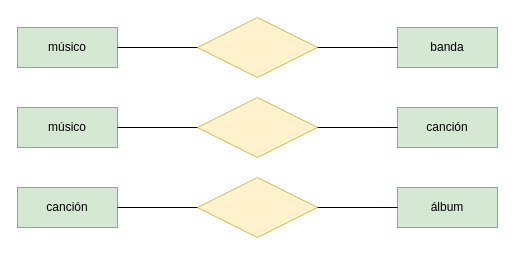
Some shapes in this 515 by 255 pixel diagram are drawn without their labels. The box of each missing label's shape, as (x1, y1, x2, y2) in pixels:
compone: (196, 96, 318, 158)
forman parte: (196, 16, 318, 78)
pertenece: (196, 176, 318, 238)
